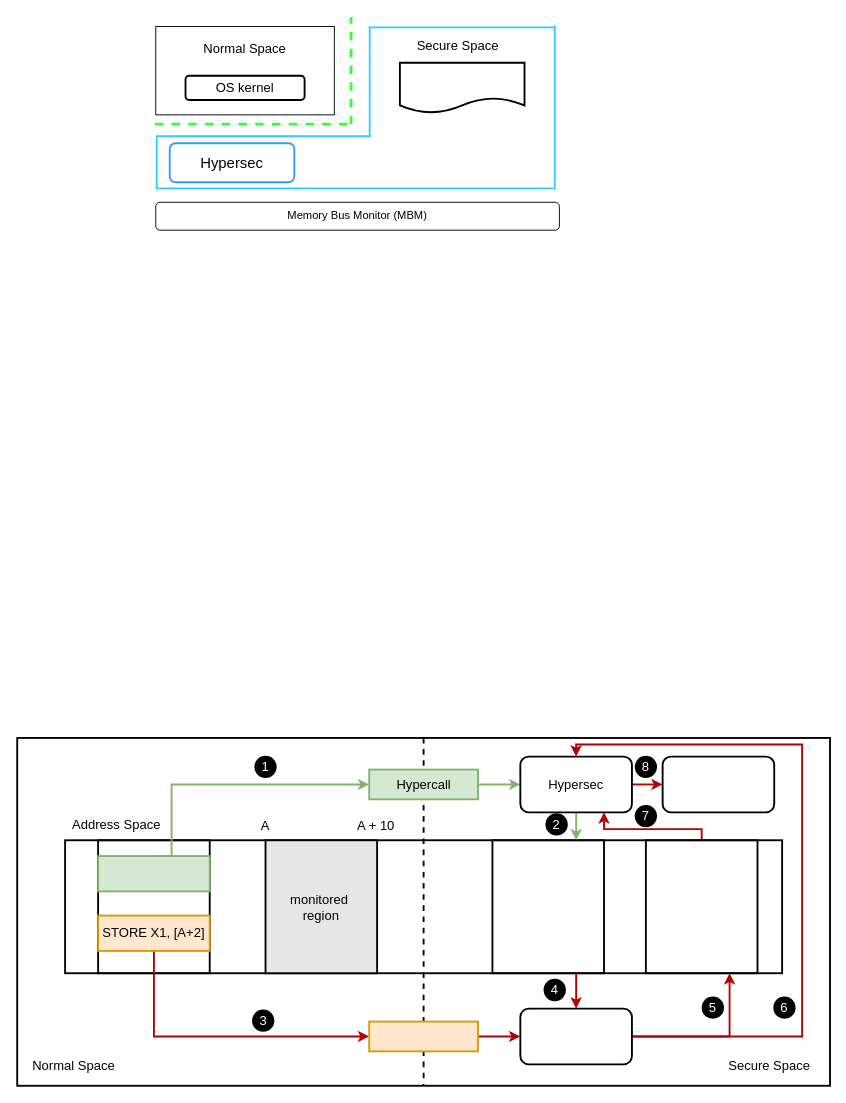
Image size: 846x1103. Some labels were removed from this diagram. The shapes that lost their labels are listed below. From the top down, each one's box as (x1, y1, x2, y2) in pixels, then its label:
(399, 61, 525, 113): Security Solutions
(661, 755, 775, 813): Security Solution
(97, 855, 210, 892): HVC (SID, A, 10)
(491, 839, 604, 974): Bitmap
(644, 839, 758, 974): Buffer
(368, 1020, 478, 1052): MEM event
(519, 1007, 632, 1065): MBM
